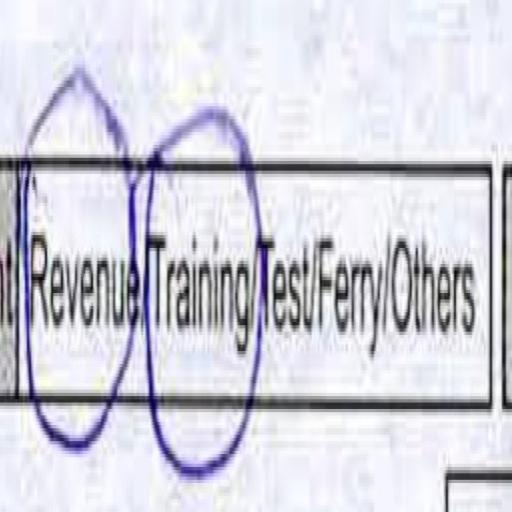check: (20, 51, 140, 512), (149, 94, 256, 510)
